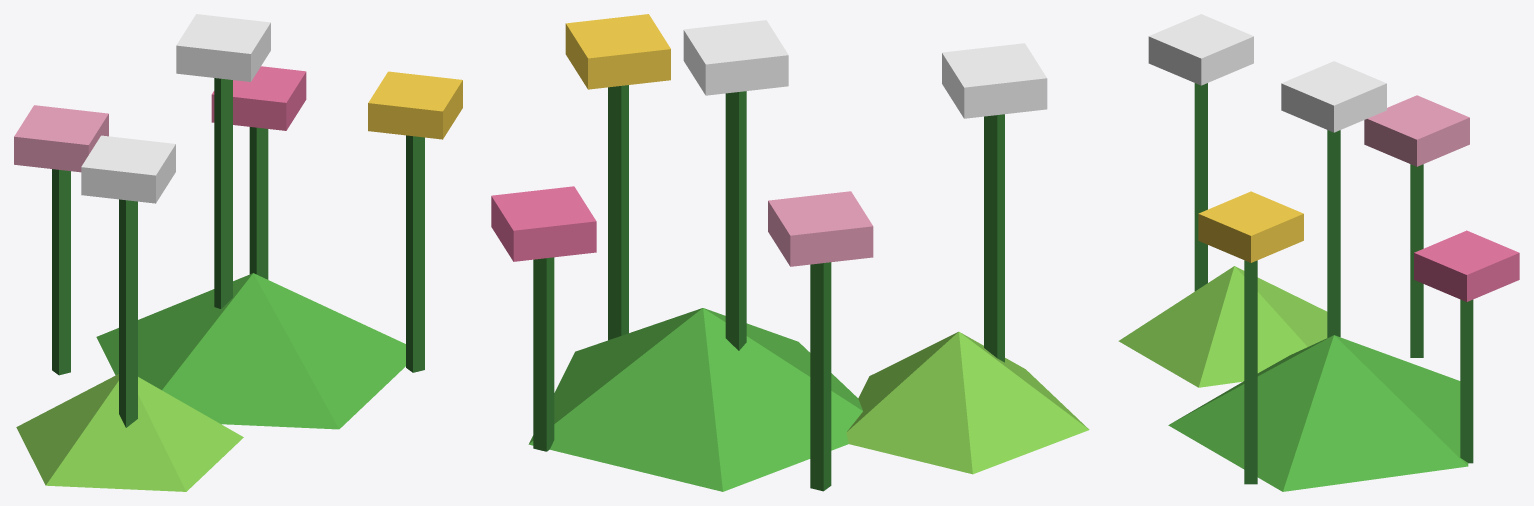
Rendered from flores_campo.glb.
3 renders of one model, left to right at view 1: azimuth 30°, elevation 25°; view 2: azimuth 150°, elevation 25°; view 3: azimuth 270°, elevation 25°, orthographic. The views are drawn at different scales.
Visible parts, largest first — view 1: corpo; view 2: corpo; view 3: corpo.
Part boxes in pixels (x1=…): corpo: x1=14, y1=14, x2=462, y2=491; corpo: x1=491, y1=14, x2=1089, y2=491; corpo: x1=1118, y1=14, x2=1519, y2=491.
Bounding box in the file's own units: 0.2984 × 0.218 × 0.2418.
